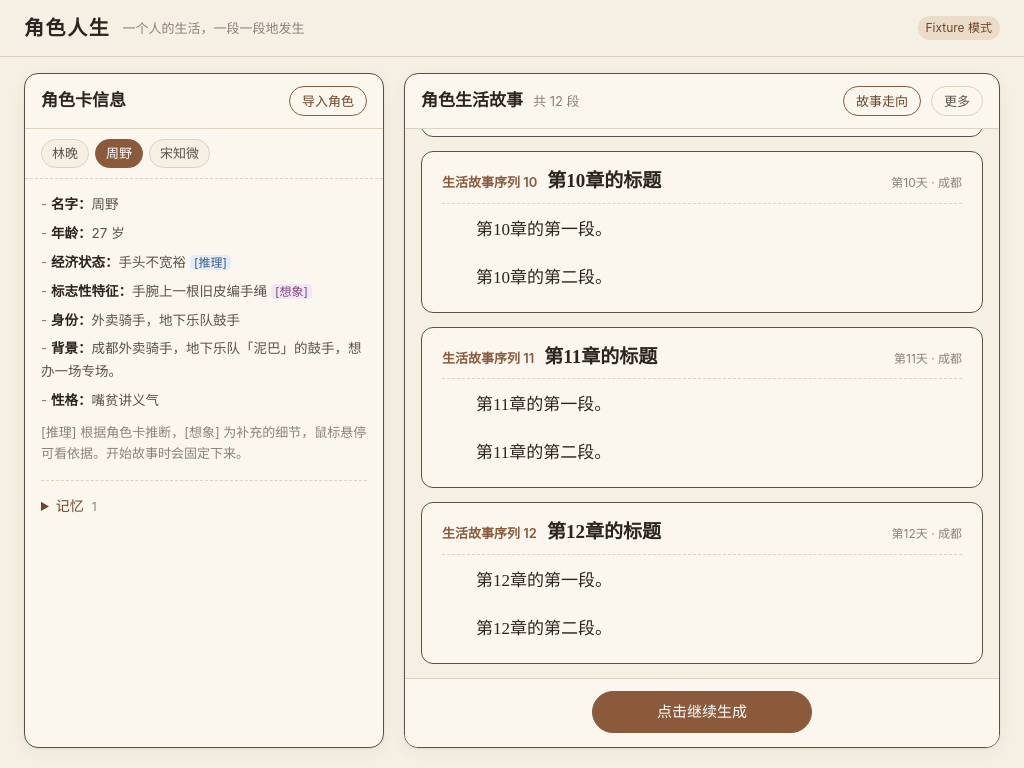
it: Navigating long stories › jumps from a memory source to an older segment
This screenshot has width=1024, height=768.
(page scrolled)
Click the heading "记忆 1".
click(76, 505)  # box top-left (56, 497), bottom-right (97, 514)
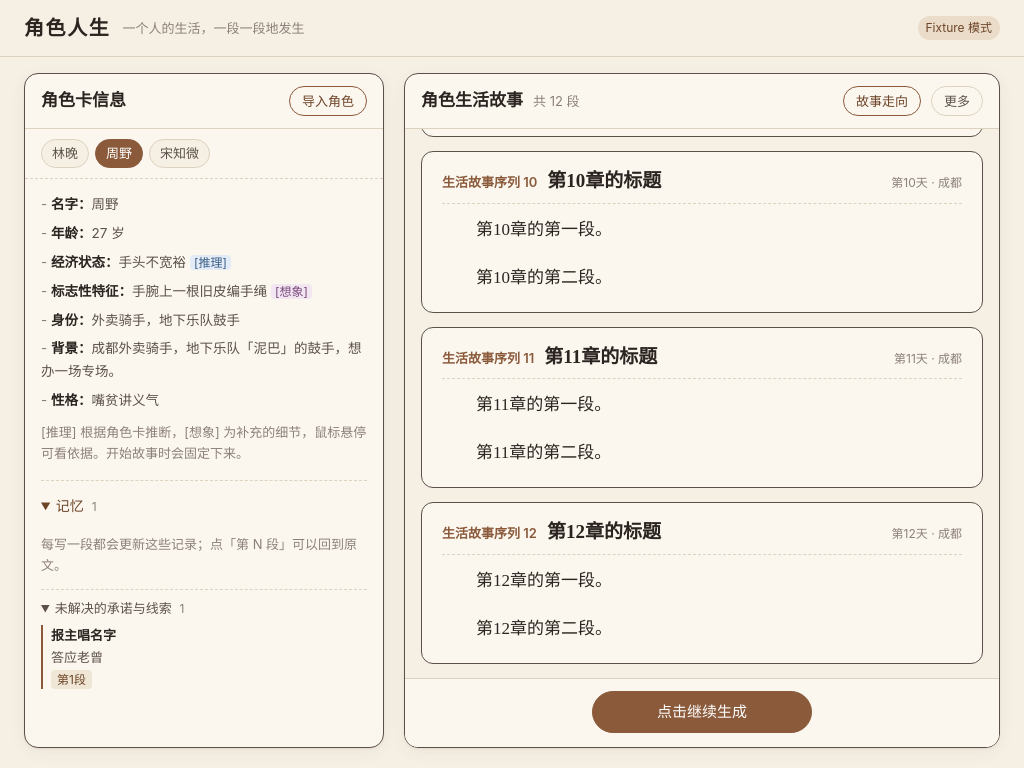
Click the button named "跳到第 1 段".
click(71, 680)  # box top-left (51, 670), bottom-right (92, 690)
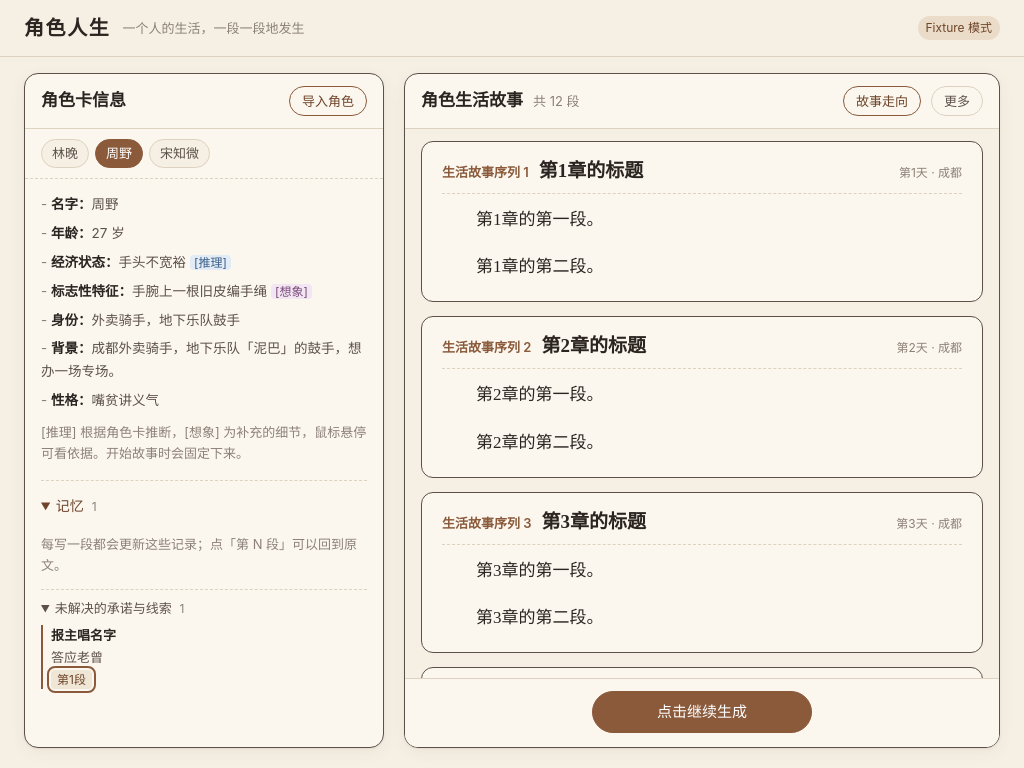
Expected: the heading "第1章的标题" is shown, top-left (539, 158), bottom-right (643, 185)
